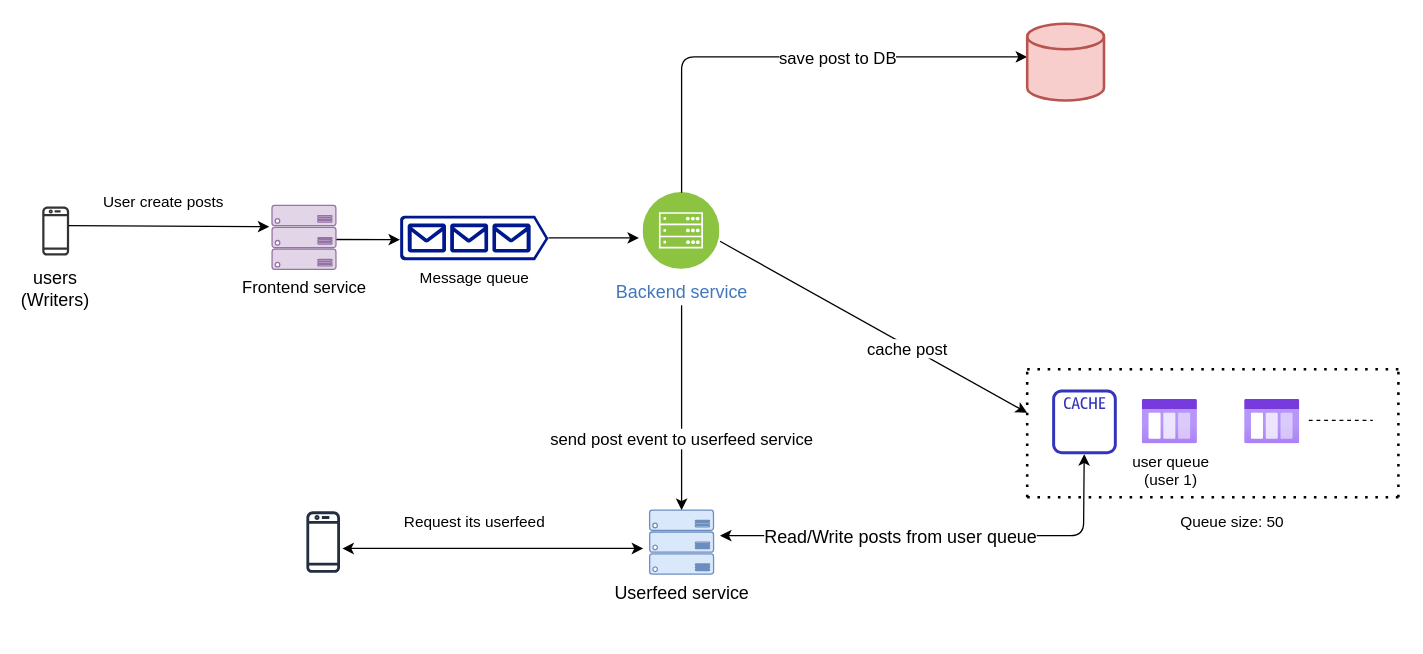
This 1423x654 diagram has some shape labels left out. The centre of each missing label's shape, as x and y in pixels:
DB: point 1065,61
user queue (user 2): point 1271,421
Users (Readers): point 323,541
